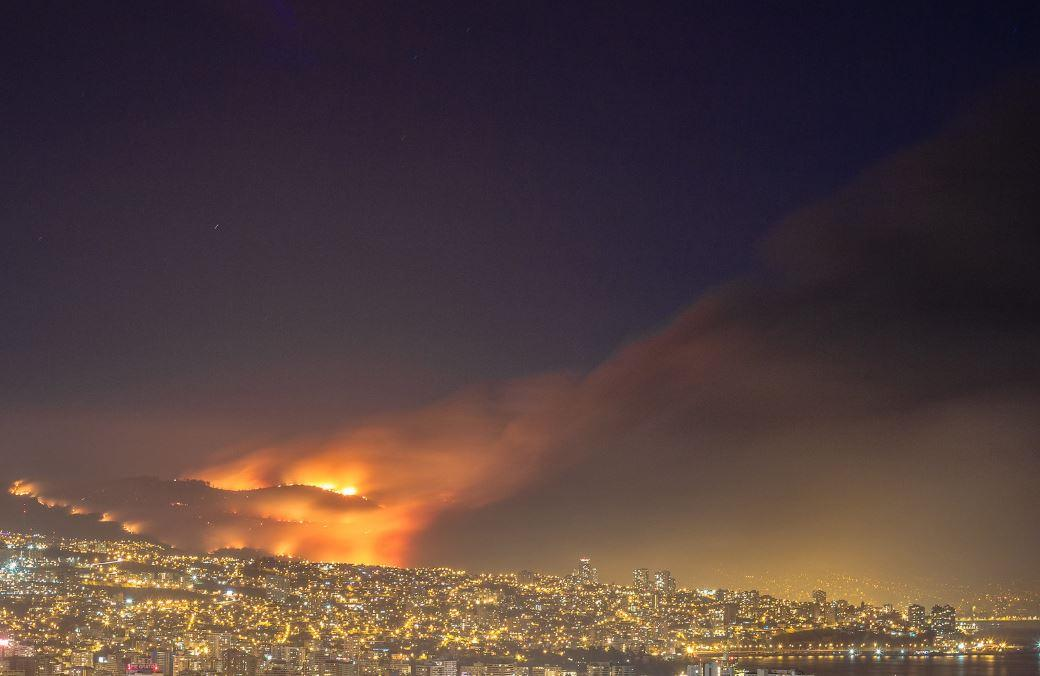Fire: (276, 516, 411, 567), (176, 446, 273, 491), (288, 461, 366, 497), (10, 478, 56, 508), (209, 527, 247, 552), (121, 519, 141, 538), (70, 503, 86, 519), (99, 511, 116, 526)
